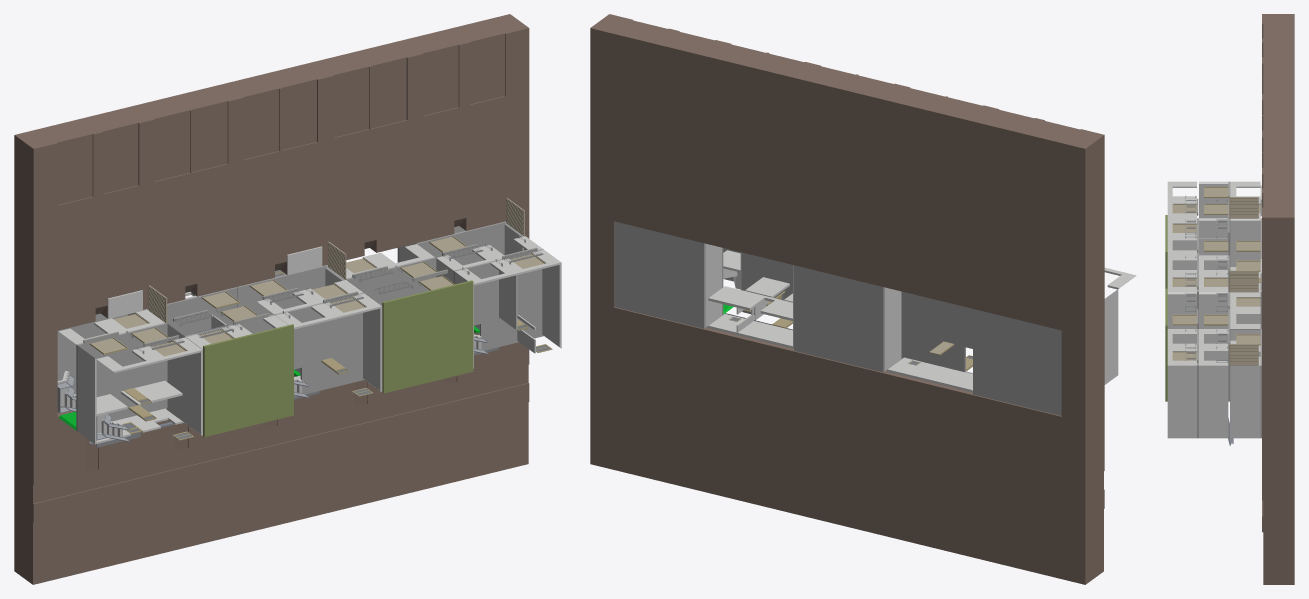
The picture shows the model from 3 angles, left to right: view 1: azimuth 30°, elevation 25°; view 2: azimuth 150°, elevation 25°; view 3: azimuth 270°, elevation 25°; orthographic projection. The views are drawn at different scales.
Parts seen in each view (by area): view 1: Gelaende-Smiley-West, Dach-4, Dach-2, AC-11-Smiley-West-04-07-2007-1, Boden-2OG-3, Boden-2OG-5, Boden-1OG-1, Boden-EG-3, Boden-1OG-4, 1OG-A-1-1, Boden-EG-2, Boden-EG-5 (+17 smaller); view 2: Gelaende-Smiley-West, Boden-Keller-5, Boden-Keller-3, Boden-Keller-1, Boden-EG-2, Keller-A-2-4, Keller-I-4-1, Boden-1OG-4, Keller-A-4-4, 1OG-A-1-1, Keller-A-3-1, Keller-A-5-1; view 3: Gelaende-Smiley-West, AC-11-Smiley-West-04-07-2007-1, EG-A-5-3, 1OG-A-5-3, 2OG-A-5-3, EG-A-2-1, 2OG-A-4-1, 1OG-A-4-1, EG-A-4-2, 2OG-A-1-2, 2OG-A-5-2, 1OG-A-5-2 (+30 smaller).
Boxes of the visible parts, box(x1,y1,x2,y2) form: Gelaende-Smiley-West: box(14, 14, 529, 584); Dach-4: box(382, 280, 473, 393); Dach-2: box(203, 324, 293, 437); AC-11-Smiley-West-04-07-2007-1: box(57, 198, 543, 444); Boden-2OG-3: box(274, 292, 364, 396); Boden-2OG-5: box(453, 249, 543, 352); Boden-1OG-1: box(76, 323, 166, 431); Boden-EG-3: box(237, 265, 326, 315); Boden-1OG-4: box(345, 257, 435, 305); 1OG-A-1-1: box(77, 346, 96, 443); Boden-EG-2: box(147, 287, 237, 335); Boden-EG-5: box(416, 221, 505, 276); Gelaende-Smiley-West: box(590, 14, 1104, 584); Boden-Keller-5: box(614, 221, 705, 328); Boden-Keller-3: box(794, 265, 884, 372); Boden-Keller-1: box(973, 309, 1061, 415); Boden-EG-2: box(901, 291, 972, 373); Keller-A-2-4: box(886, 357, 972, 392); Keller-I-4-1: box(708, 286, 792, 320); Boden-1OG-4: box(741, 252, 792, 298); Keller-A-4-4: box(706, 314, 793, 348); 1OG-A-1-1: box(1104, 289, 1118, 384); Keller-A-3-1: box(885, 287, 901, 370); Keller-A-5-1: box(705, 244, 721, 327); Gelaende-Smiley-West: box(1262, 14, 1294, 584); AC-11-Smiley-West-04-07-2007-1: box(1185, 196, 1260, 443); EG-A-5-3: box(1230, 365, 1260, 438); 1OG-A-5-3: box(1199, 365, 1228, 438); 2OG-A-5-3: box(1167, 365, 1196, 438); EG-A-2-1: box(1230, 218, 1260, 266); 2OG-A-4-1: box(1167, 292, 1196, 328); 1OG-A-4-1: box(1199, 292, 1228, 328); EG-A-4-2: box(1230, 292, 1260, 329); 2OG-A-1-2: box(1167, 181, 1196, 218); 2OG-A-5-2: box(1167, 329, 1196, 365); 1OG-A-5-2: box(1199, 329, 1228, 365).
Bounding box in the file's own units: 41.49 × 34.91 × 11.12.
